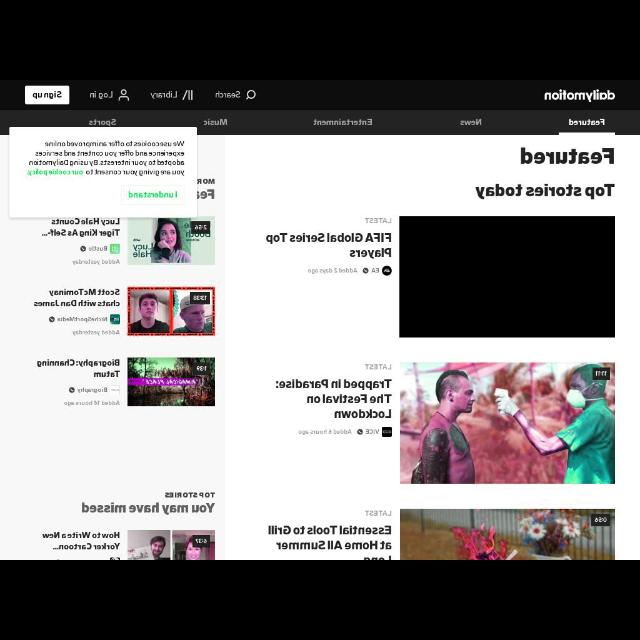icon: (118, 89, 130, 101), (246, 90, 256, 100), (182, 90, 192, 100), (362, 268, 368, 274), (80, 246, 86, 252), (49, 317, 55, 323), (69, 387, 75, 393), (357, 429, 363, 435)
iframe: (9, 127, 197, 217)
image: (400, 362, 614, 483), (400, 508, 614, 560), (127, 287, 215, 337), (127, 217, 215, 266), (127, 358, 215, 406), (128, 530, 215, 560), (382, 266, 392, 276), (382, 427, 392, 437), (110, 315, 120, 325), (110, 244, 120, 254), (109, 386, 119, 394)
multitab: (1, 110, 639, 134)
text: (26, 140, 184, 176), (276, 379, 392, 418), (266, 233, 390, 259), (268, 526, 390, 550), (475, 184, 615, 200), (34, 288, 120, 308), (37, 358, 119, 378), (82, 503, 215, 515), (520, 148, 614, 164), (40, 218, 120, 236), (42, 532, 120, 550), (544, 90, 616, 102), (314, 118, 372, 126), (128, 190, 178, 198), (64, 400, 120, 406), (298, 429, 352, 435), (568, 118, 606, 126), (57, 316, 107, 322), (165, 492, 215, 498), (308, 268, 357, 274), (72, 259, 120, 265), (72, 330, 120, 336), (89, 90, 113, 100), (32, 91, 62, 99), (88, 119, 116, 127), (150, 91, 178, 99), (216, 90, 240, 98), (202, 118, 228, 125), (197, 189, 215, 199), (77, 388, 107, 394), (460, 118, 482, 126), (364, 364, 392, 370), (364, 510, 392, 516), (365, 218, 391, 224), (89, 246, 108, 252), (198, 179, 215, 185), (365, 430, 379, 434), (371, 268, 379, 272)
textbutton: (122, 185, 184, 205), (25, 86, 69, 104)
toolbar: (1, 81, 640, 109)
